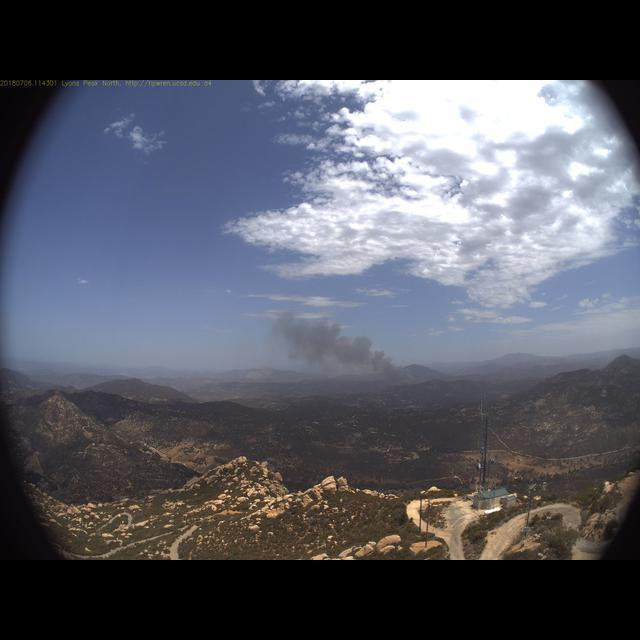Smoke: (262, 306, 451, 392)
